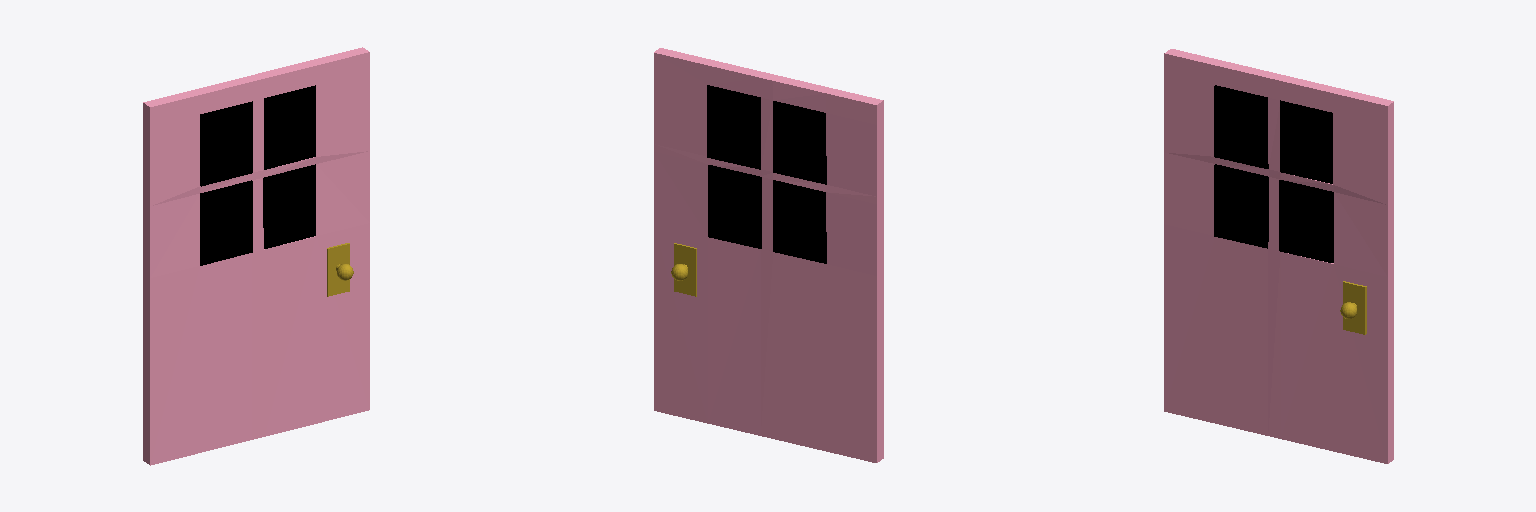
3 renders of one model, left to right at view 1: azimuth 30°, elevation 25°; view 2: azimuth 150°, elevation 25°; view 3: azimuth 330°, elevation 25°, orthographic.
Parts seen in each view (by area): view 1: pasted__pasted__pCube36; view 2: pasted__pasted__pCube36; view 3: pasted__pasted__pCube36.
Part boxes in pixels (x1,y1,x2,y2): pasted__pasted__pCube36: (143, 47, 369, 465); pasted__pasted__pCube36: (654, 48, 883, 462); pasted__pasted__pCube36: (1164, 49, 1393, 463).
Bounding box in the file's own units: 6.48 × 10 × 1.45.
5 materials, 2 textured.